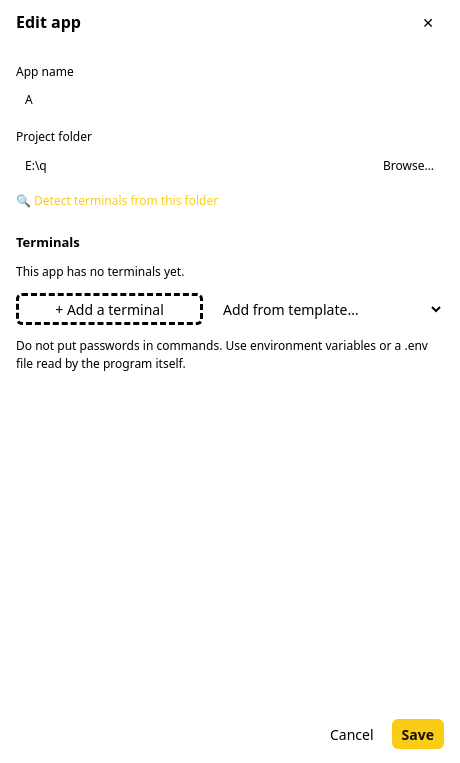
it: EditPane: novice flow (pickers, detection, autocomplete) › templates add prefilled terminals; the Docker one uses a real container name
The image size is (460, 763).
Later steps or results of the test are not shown.
Select ".NET API (dotnet watch run)" in the dropdown named "Add from template" at (328, 309), box [211,293,444,325]
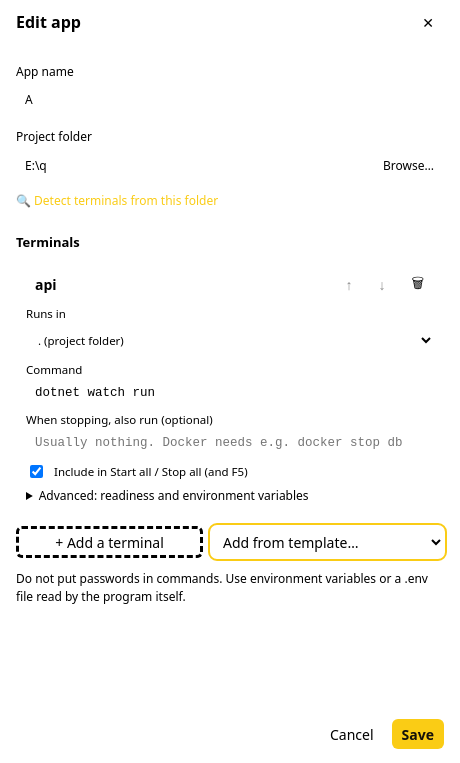
Result: the field named "Terminal 1 command" holds "dotnet watch run" at [26,380,434,406]
Select "Docker container (start / stop)" in the dropdown named "Add from template" at (328, 542), box [211,526,444,558]
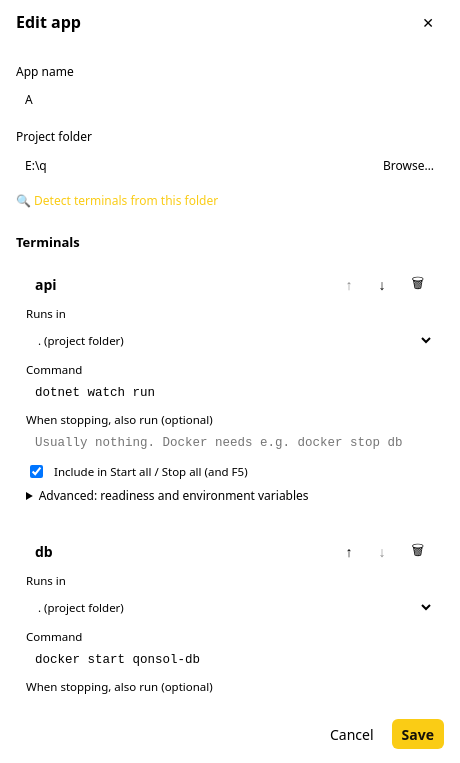
Result: the field named "Terminal 2 command" holds "docker start qonsol-db" at [26,647,434,673]
